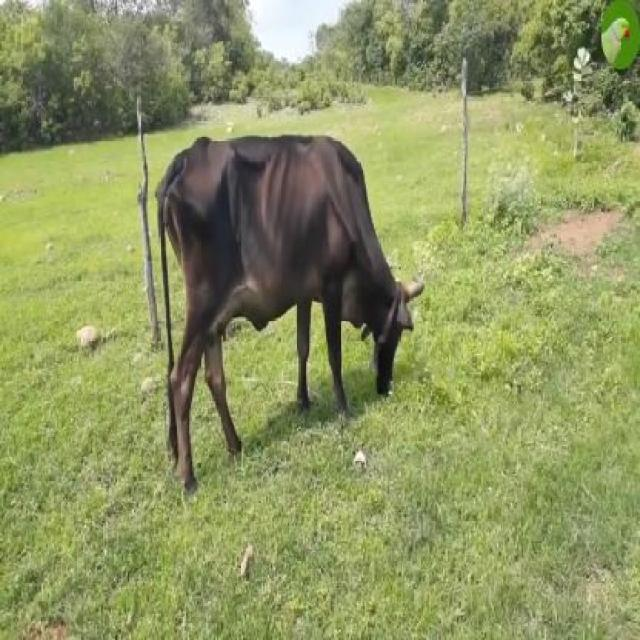Cow: (155, 136, 414, 507)
